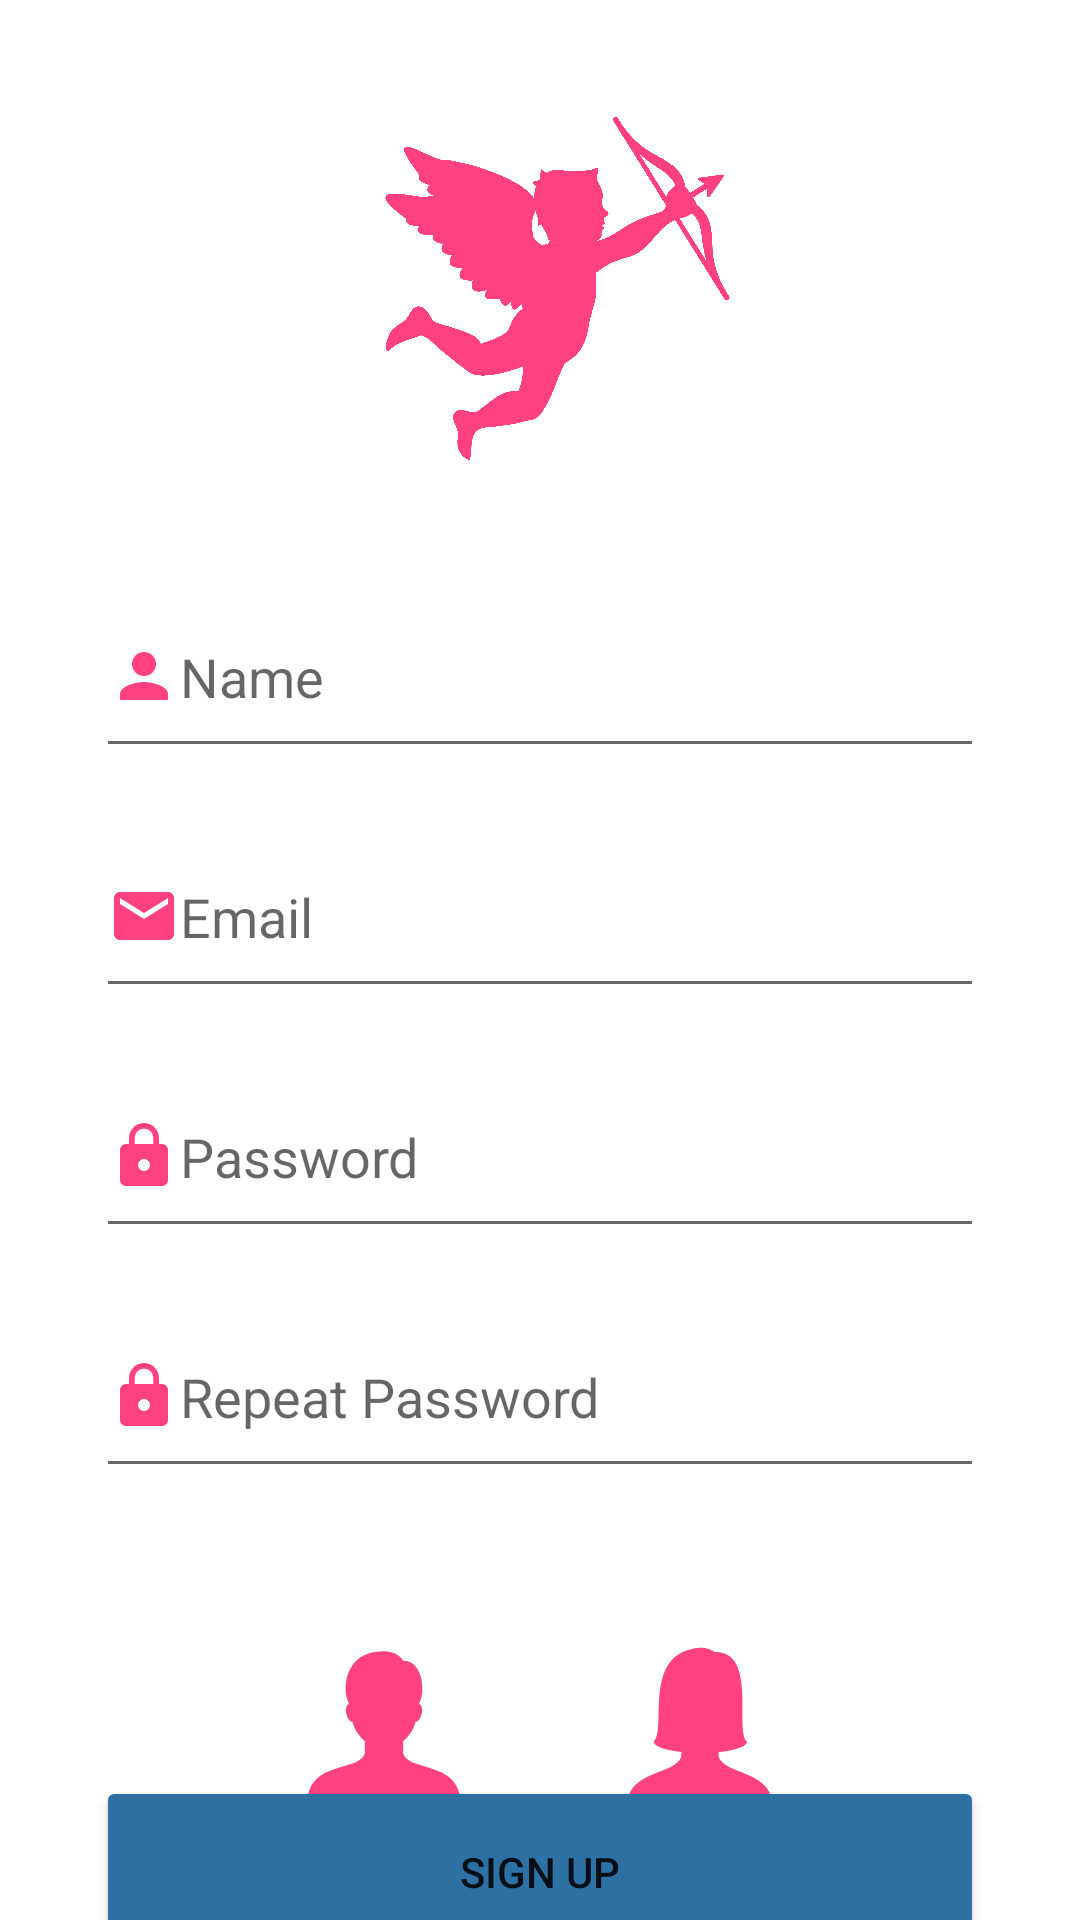

Icon bounding boxes for this 1080w x 1920h phone screenshot, format (x1, y1, x2, y2):
cupid: (385, 117, 730, 460)
female: (600, 1647, 792, 1824)
